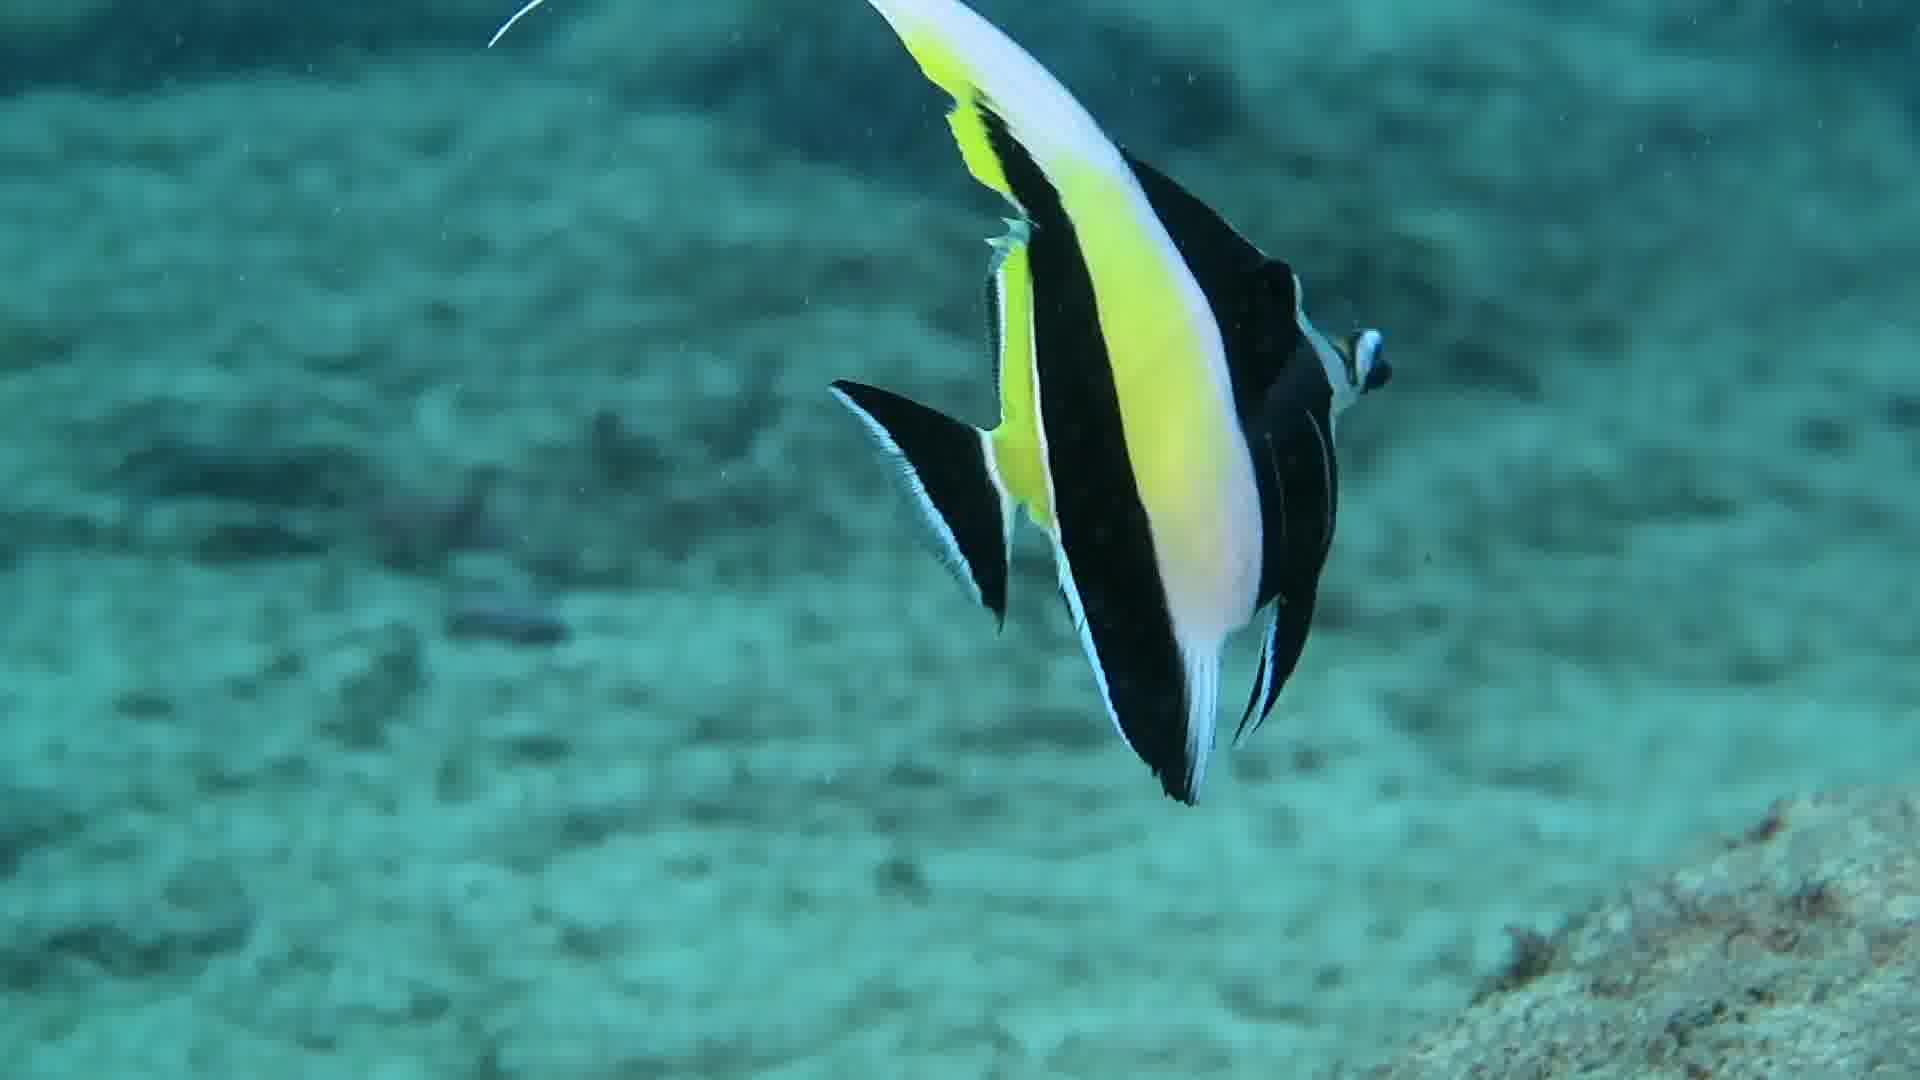Zanclus cornutus: (769, 16, 1451, 833)
